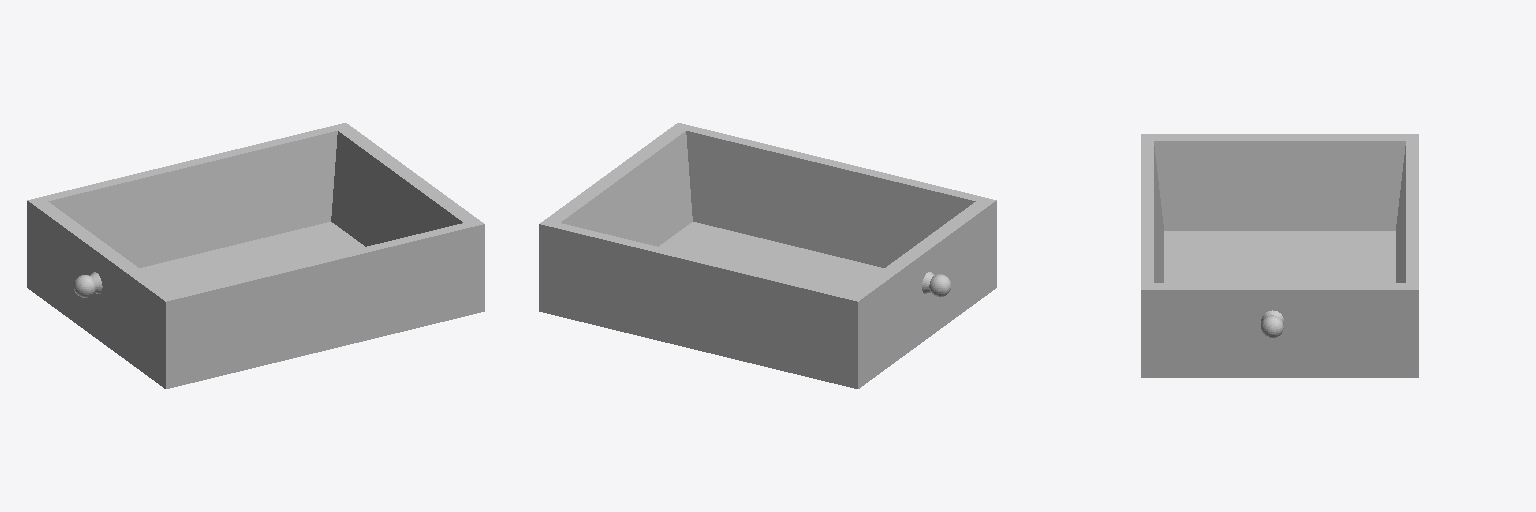
3 views of the same model, side by side, from view 1: azimuth 30°, elevation 25°; view 2: azimuth 150°, elevation 25°; view 3: azimuth 270°, elevation 25° (orthographic).
Visible parts, largest first — view 1: LABIRINTO.001; view 2: LABIRINTO.001; view 3: LABIRINTO.001.
Part boxes in pixels (x1,y1,x2,y2): LABIRINTO.001: (27, 123, 484, 388); LABIRINTO.001: (539, 123, 996, 388); LABIRINTO.001: (1141, 134, 1418, 377).
Size of the model in its own units: 36.33 by 8.39 by 24.04.